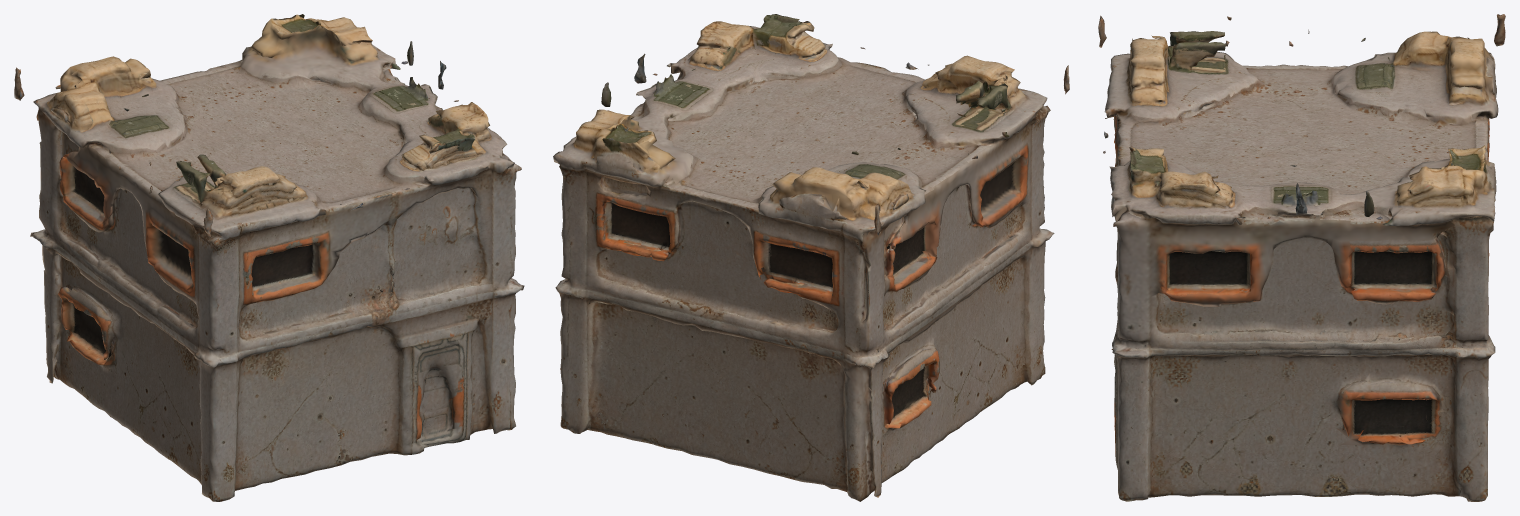
File: Perch_Roof.glb
The picture shows the model from 3 angles, left to right: view 1: azimuth 30°, elevation 25°; view 2: azimuth 150°, elevation 25°; view 3: azimuth 270°, elevation 25°; orthographic projection. The views are drawn at different scales.
Parts seen in each view (by area): view 1: texture_mapping; view 2: texture_mapping; view 3: texture_mapping.
Boxes of the visible parts, box(x1,y1,x2,y2) form: texture_mapping: box(14, 14, 524, 501); texture_mapping: box(553, 14, 1069, 501); texture_mapping: box(1098, 14, 1505, 501).
Size of the model in its own units: 0.9756 by 0.8576 by 0.9709.
Materials: 1 (1 with a texture image).
